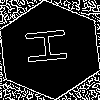H: (25, 25, 78, 66)
